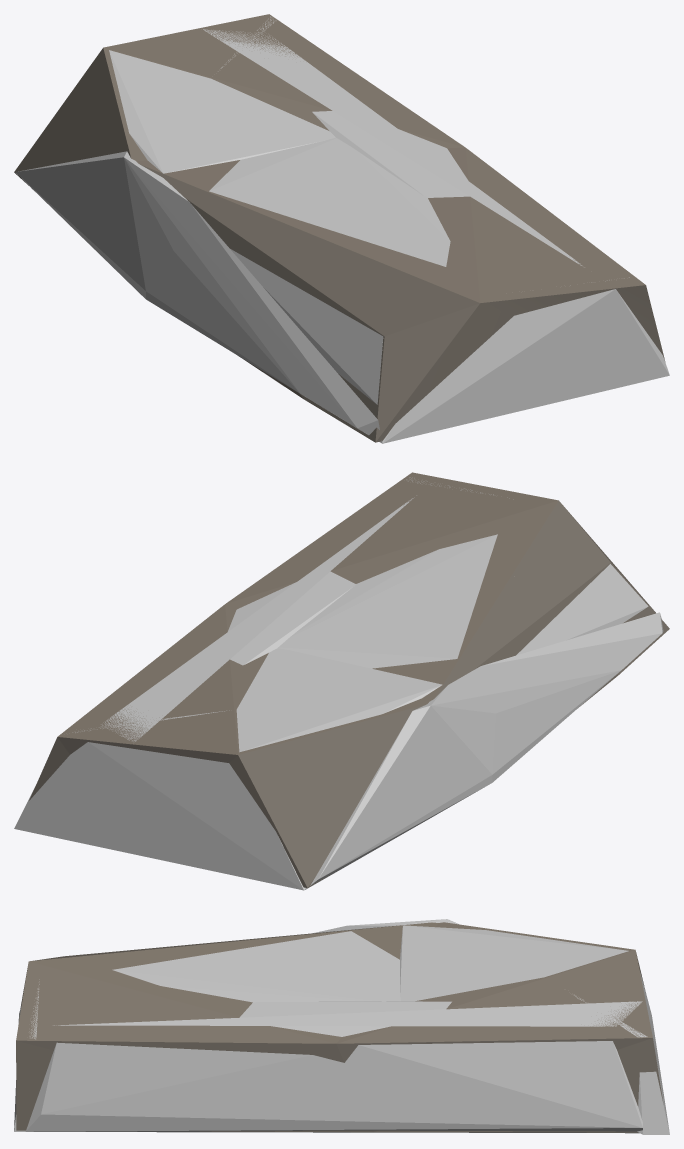
The model's file is SM_Env_Footpath_Stone_02.fbx.
3 views of the same model, one above another, from view 1: azimuth 30°, elevation 25°; view 2: azimuth 150°, elevation 25°; view 3: azimuth 270°, elevation 25° (orthographic). The views are drawn at different scales.
Visible parts, largest first — view 1: SM_Env_Footpath_Stone_02_ConvexHulls, SM_Env_Footpath_Stone_02; view 2: SM_Env_Footpath_Stone_02_ConvexHulls, SM_Env_Footpath_Stone_02; view 3: SM_Env_Footpath_Stone_02_ConvexHulls, SM_Env_Footpath_Stone_02.
Boxes of the visible parts, x1,y1,x2,y2 form: SM_Env_Footpath_Stone_02_ConvexHulls: (15, 16, 669, 443); SM_Env_Footpath_Stone_02: (14, 14, 665, 442); SM_Env_Footpath_Stone_02_ConvexHulls: (14, 477, 663, 890); SM_Env_Footpath_Stone_02: (29, 472, 669, 888); SM_Env_Footpath_Stone_02_ConvexHulls: (14, 919, 669, 1134); SM_Env_Footpath_Stone_02: (16, 922, 663, 1132).
Bounding box in the file's own units: 65.52 × 135 × 22.47.
2 materials, 1 textured.
